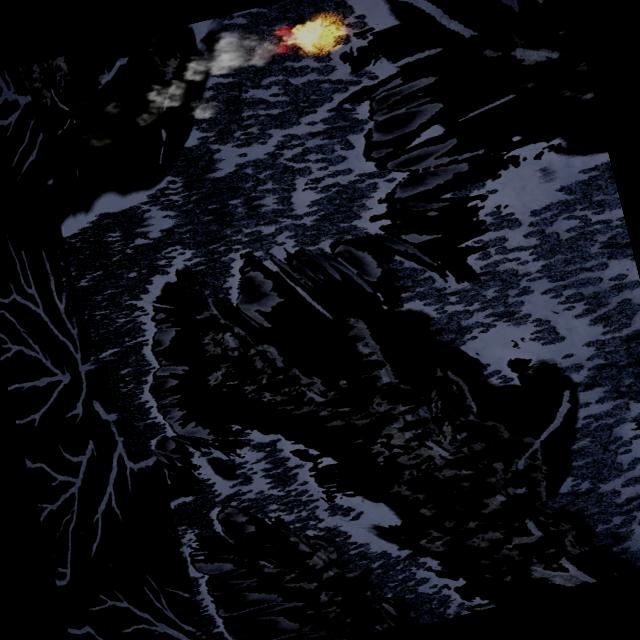fire: (278, 13, 339, 58)
smoke: (63, 12, 295, 150), (75, 123, 118, 150)
